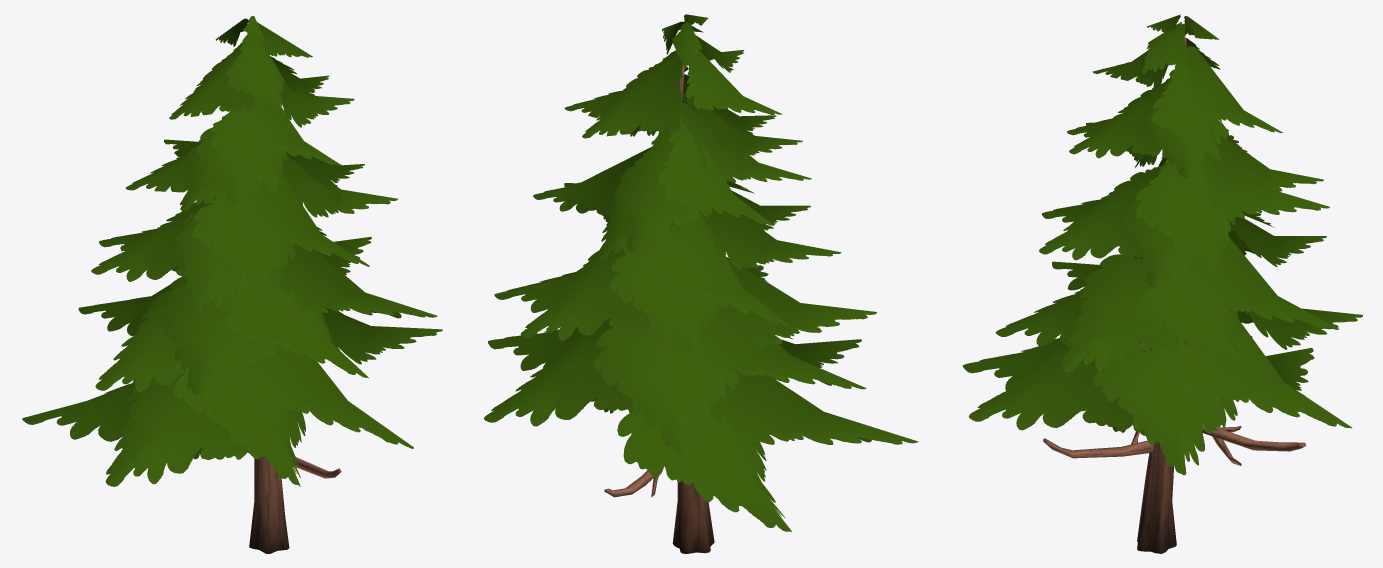
Rendered from Pine_2.medium.gltf.
3 renders of one model, left to right at view 1: azimuth 30°, elevation 25°; view 2: azimuth 150°, elevation 25°; view 3: azimuth 270°, elevation 25°, orthographic. The views are drawn at different scales.
Parts seen in each view (by area): view 1: Pine_2; view 2: Pine_2; view 3: Pine_2.
Boxes of the visible parts, bbox=[...] form: Pine_2: bbox=[22, 16, 442, 553]; Pine_2: bbox=[484, 14, 918, 553]; Pine_2: bbox=[962, 14, 1362, 553].
Size of the model in its own units: 5.73 by 7.38 by 5.22.
Materials: 2 (2 with a texture image).
